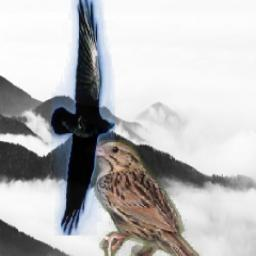Crow: (51, 0, 115, 237)
Sparrow: (84, 138, 209, 256)
